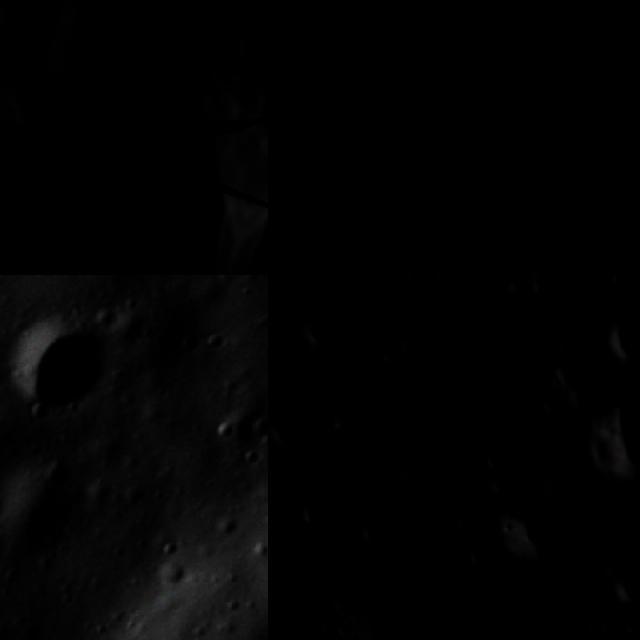crater: (135, 392, 268, 640), (0, 275, 143, 434), (0, 440, 110, 583), (496, 492, 576, 554), (587, 390, 640, 483), (515, 24, 587, 91), (310, 226, 363, 274), (286, 472, 320, 537), (607, 306, 640, 366), (268, 406, 308, 454), (296, 314, 342, 351), (389, 323, 430, 363), (541, 244, 587, 275), (576, 198, 614, 234), (367, 16, 403, 53), (360, 518, 396, 551), (614, 563, 640, 604), (476, 446, 510, 476), (241, 2, 268, 34), (268, 183, 291, 214), (291, 102, 314, 130), (468, 540, 488, 568), (332, 619, 354, 640), (555, 631, 597, 640), (421, 0, 463, 8)
